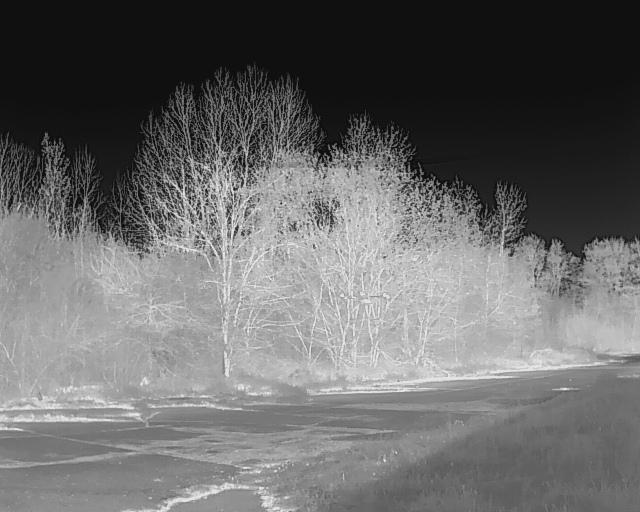drone: (327, 287, 385, 317)
